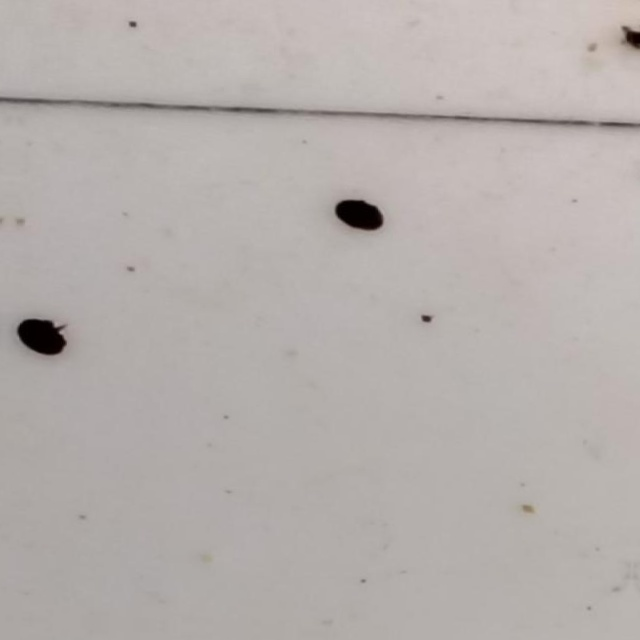varroa: (13, 316, 71, 360), (332, 199, 388, 236)
